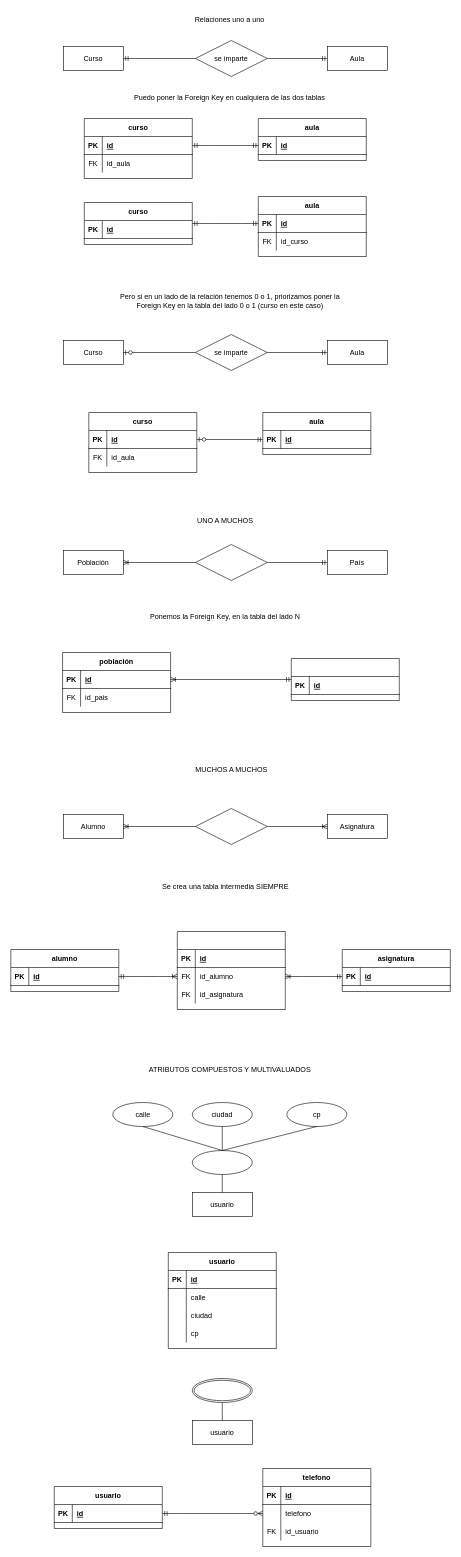
The diagram is 461 pixels wide and 1557 high, and some of its shapes have lost their labels. The shapes that lost their labels are listed below. From the top down, each one's box as (x1, y1, x2, y2) in pixels, then its label:
(195, 544, 267, 580): pertenece
(291, 658, 399, 700): pais
(195, 808, 267, 844): cursa
(177, 931, 285, 1010): alumno_asignatura
(192, 1150, 252, 1174): direccion
(192, 1378, 252, 1402): tlf
